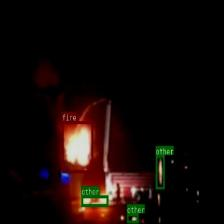fire: (62, 120, 93, 172)
